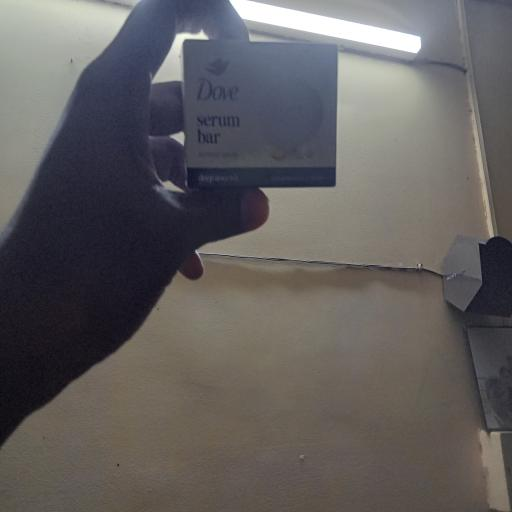Dove`1: (181, 37, 340, 190)
